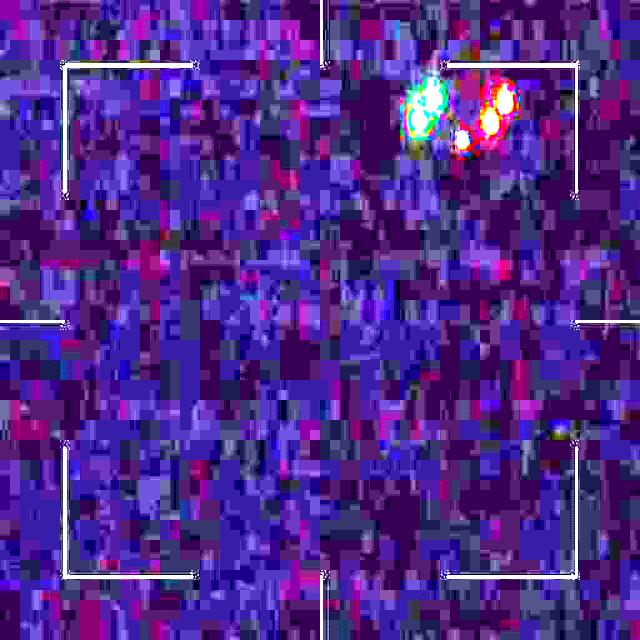bird: (410, 84, 514, 152)
